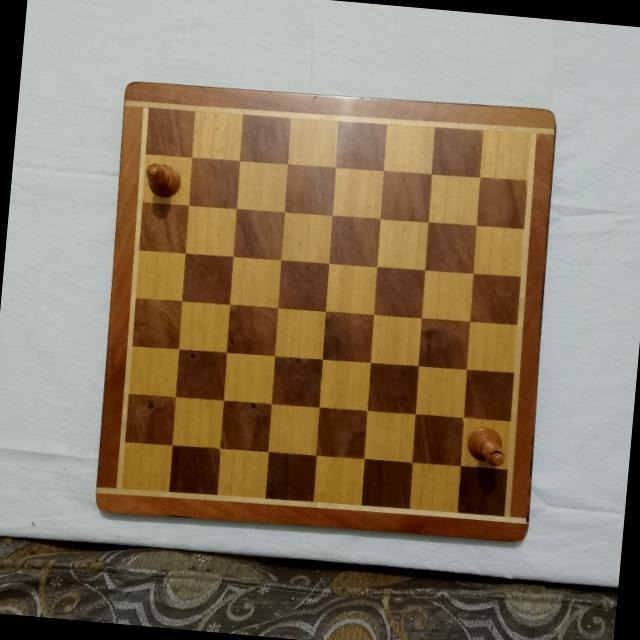white-bishop: (463, 425, 508, 469), (141, 159, 182, 198)
